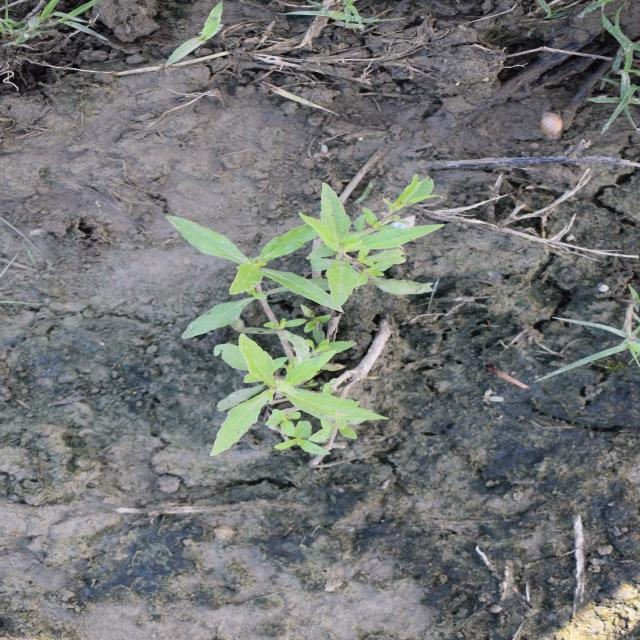Eclipta: (162, 170, 449, 459)
